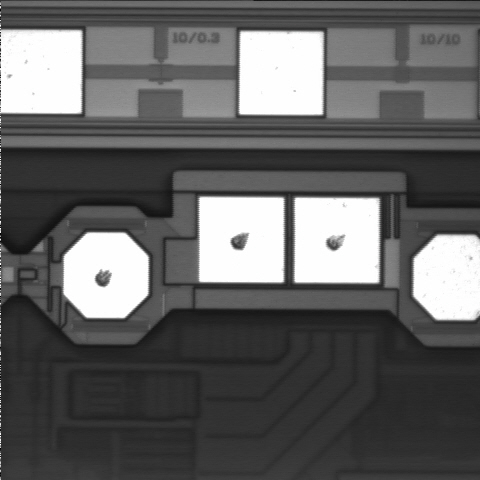pad: (199, 197, 284, 282), (295, 198, 379, 283), (64, 233, 148, 318), (239, 32, 323, 115)
